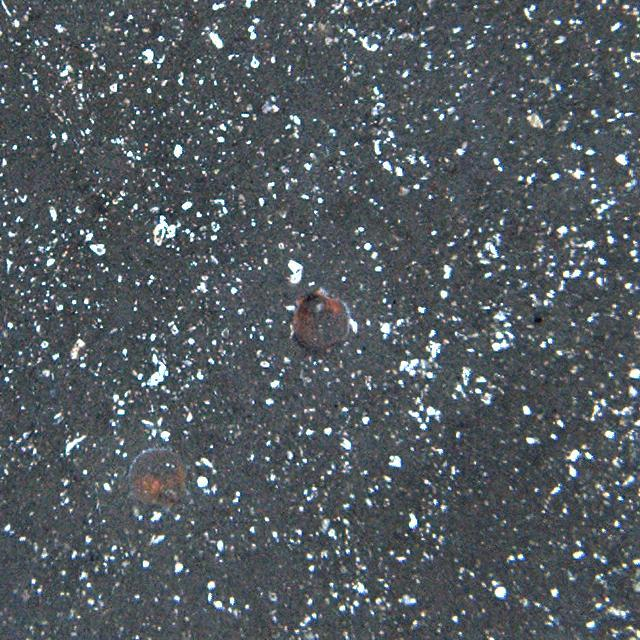scallop: (125, 445, 192, 509), (288, 287, 352, 352)
